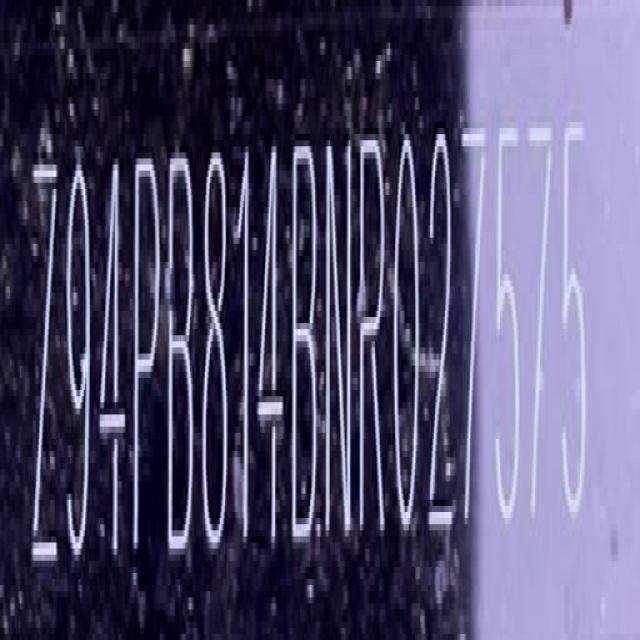0: (393, 140, 423, 535)
1: (234, 146, 255, 548)
2: (426, 124, 456, 551)
4: (97, 151, 129, 576), (256, 140, 285, 564)
5: (562, 111, 592, 528), (494, 124, 522, 526)
7: (526, 111, 557, 517), (460, 120, 488, 528)
8: (202, 140, 230, 562)
9: (64, 156, 92, 571)
B: (165, 149, 200, 567), (289, 135, 321, 556)
N: (321, 133, 355, 542)
P: (130, 140, 162, 580)
R: (357, 140, 387, 539)
Z: (30, 138, 61, 578)
